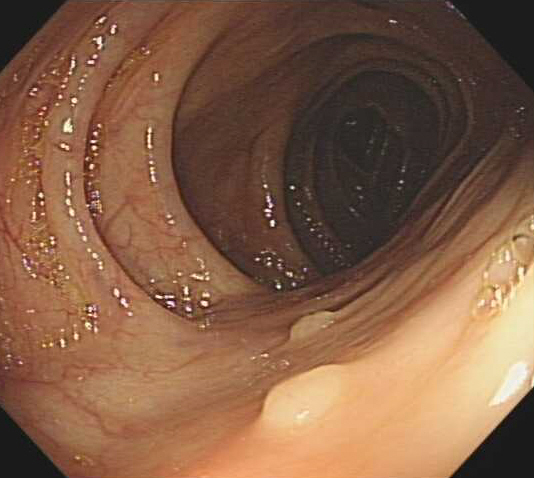adenoma: (255, 362, 349, 426), (281, 309, 343, 343)
